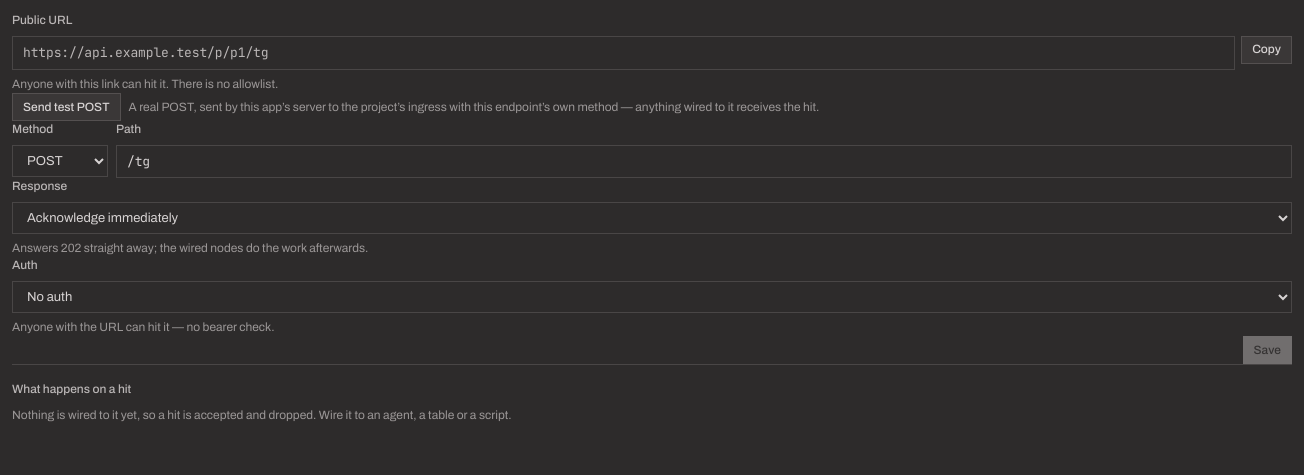
Scenario: testing the public URL › reads a script endpoint that has not answered yet as sent, not as a failure
The image size is (1304, 475).
Click the button with test id "btn-endpoint-test".
click(66, 107)  # box [12, 93, 120, 121]
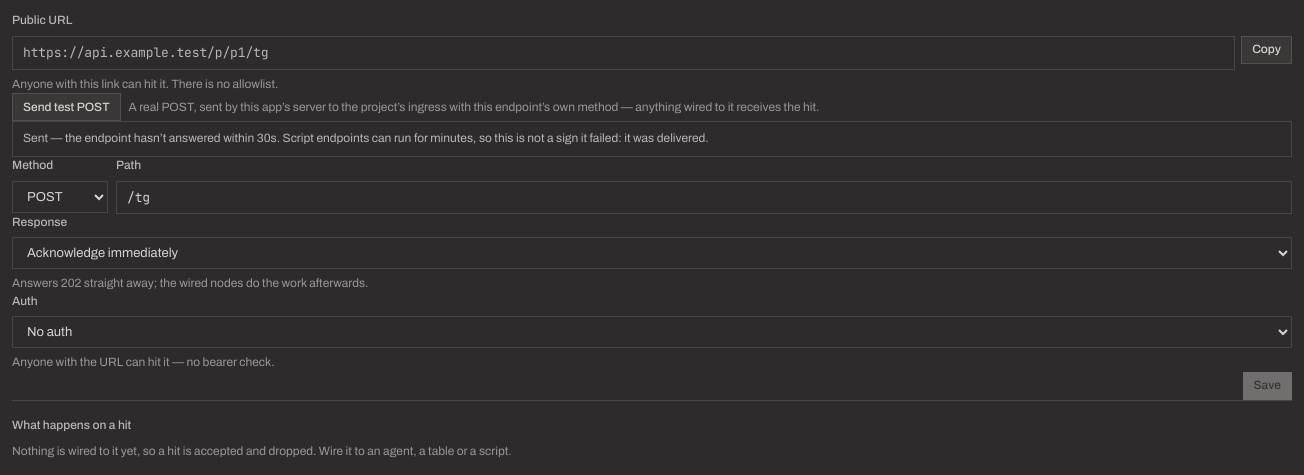
expect the text with test id "endpoint-probe-sent" is shown: met, box [23, 131, 709, 145]
